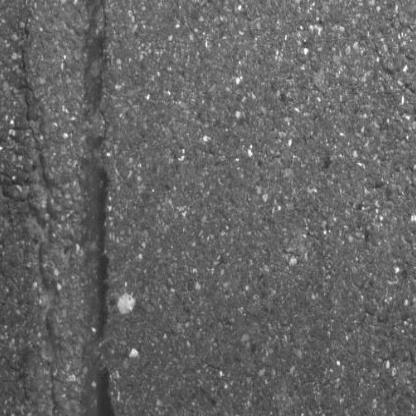Cracks: (16, 0, 53, 193), (0, 140, 19, 322)
